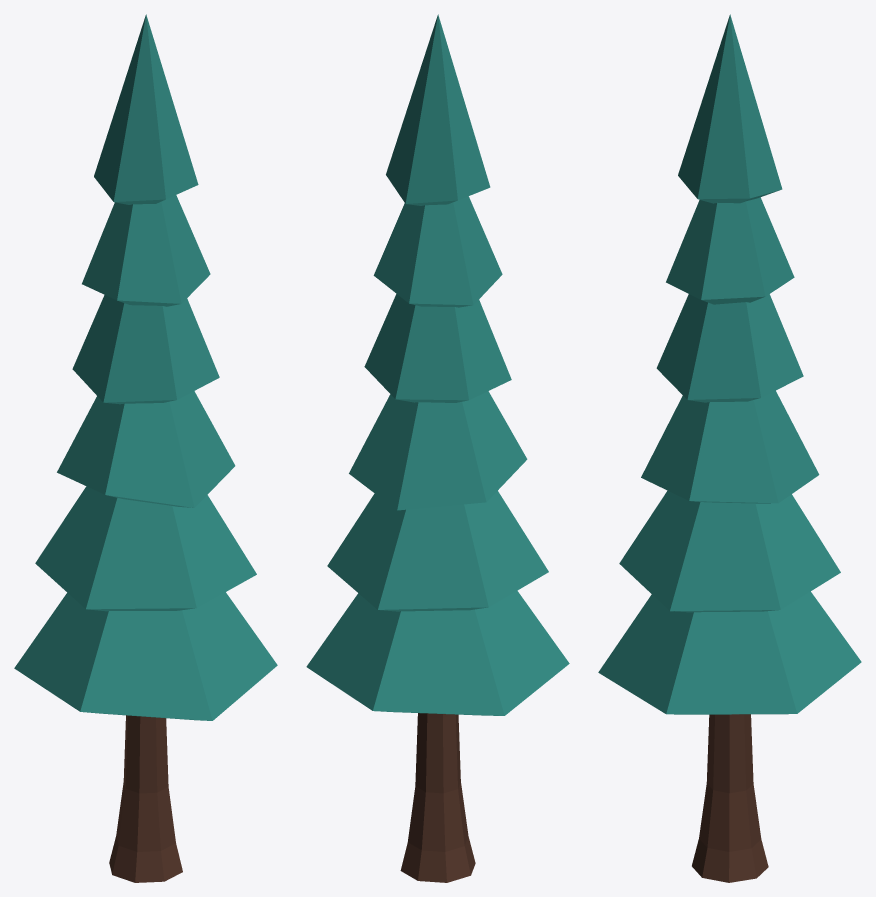
Rendered from Tree_Type7_6.fbx.
The picture shows the model from 3 angles, left to right: view 1: azimuth 30°, elevation 25°; view 2: azimuth 150°, elevation 25°; view 3: azimuth 270°, elevation 25°; orthographic projection.
Visible parts, largest first — view 1: Tree_Type7_6; view 2: Tree_Type7_6; view 3: Tree_Type7_6.
Part boxes in pixels (x1,y1,x2,y2): Tree_Type7_6: (14, 14, 277, 882); Tree_Type7_6: (306, 14, 569, 882); Tree_Type7_6: (598, 14, 861, 882).
Bounding box in the file's own units: 202 × 828 × 232.
